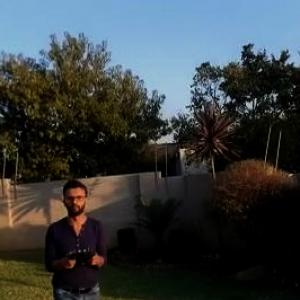follow: (42, 174, 112, 299)
